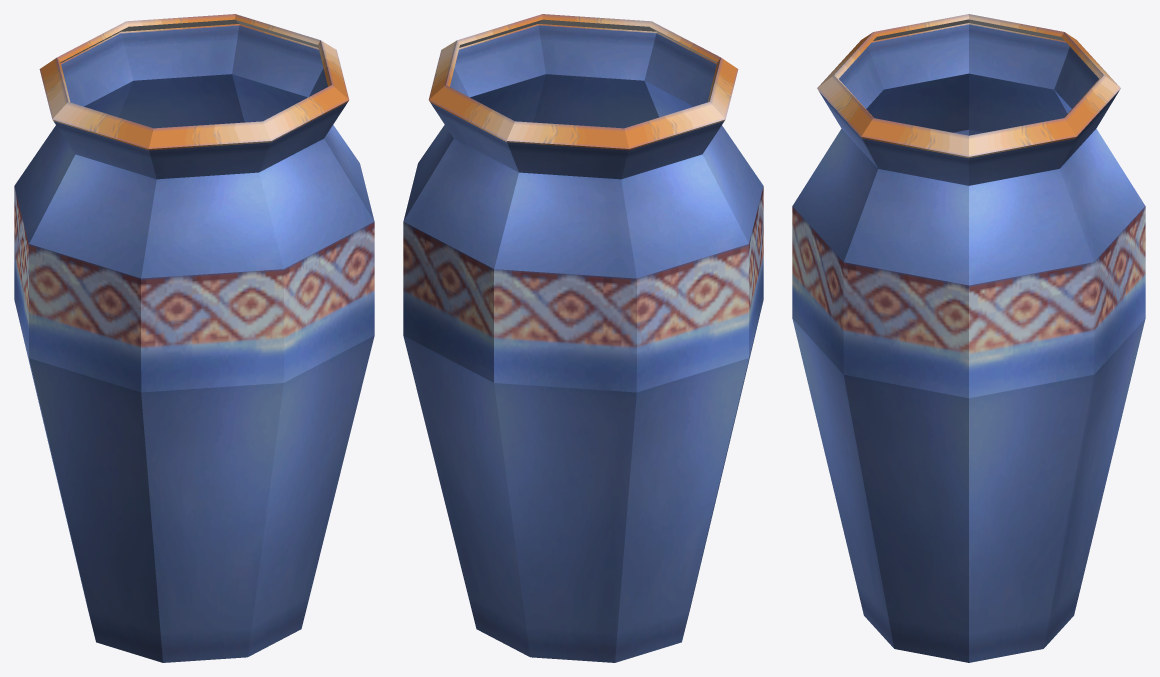
The model's file is FloreroAzul.obj.
3 views of the same model, side by side, from view 1: azimuth 30°, elevation 25°; view 2: azimuth 150°, elevation 25°; view 3: azimuth 270°, elevation 25° (orthographic).
Parts seen in each view (by area): view 1: FloreroAzul:pCylinder1; view 2: FloreroAzul:pCylinder1; view 3: FloreroAzul:pCylinder1.
Part boxes in pixels (bbox=[...]): FloreroAzul:pCylinder1: bbox=[14, 14, 374, 662]; FloreroAzul:pCylinder1: bbox=[403, 14, 763, 662]; FloreroAzul:pCylinder1: bbox=[792, 14, 1145, 662].
Size of the model in its own units: 0.3705 by 0.5868 by 0.3464.
Materials: 4 (3 with a texture image).
